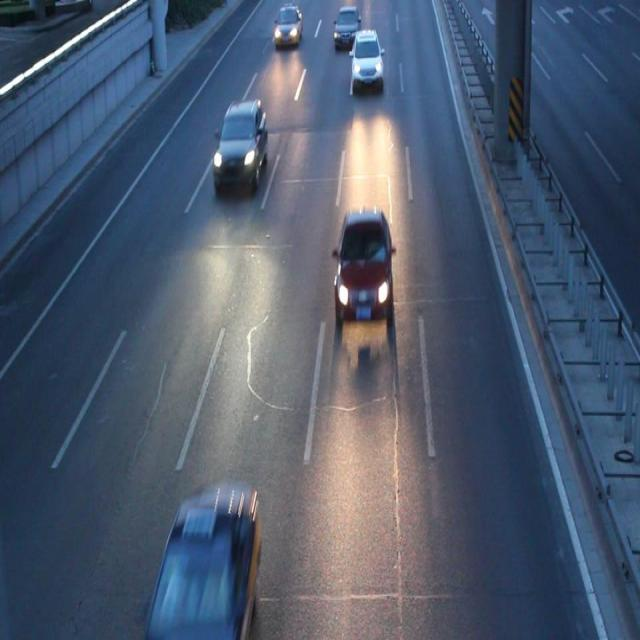car: (148, 486, 260, 640), (334, 209, 394, 329), (214, 100, 268, 188), (349, 29, 382, 87), (333, 1, 360, 49), (274, 2, 300, 48)
